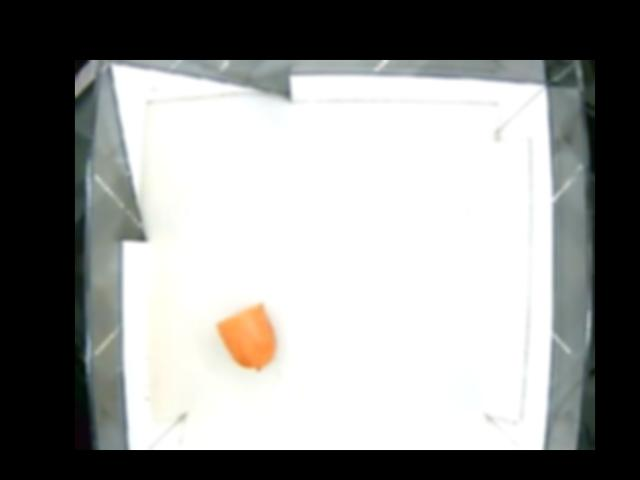Carrot: (215, 302, 277, 371)
